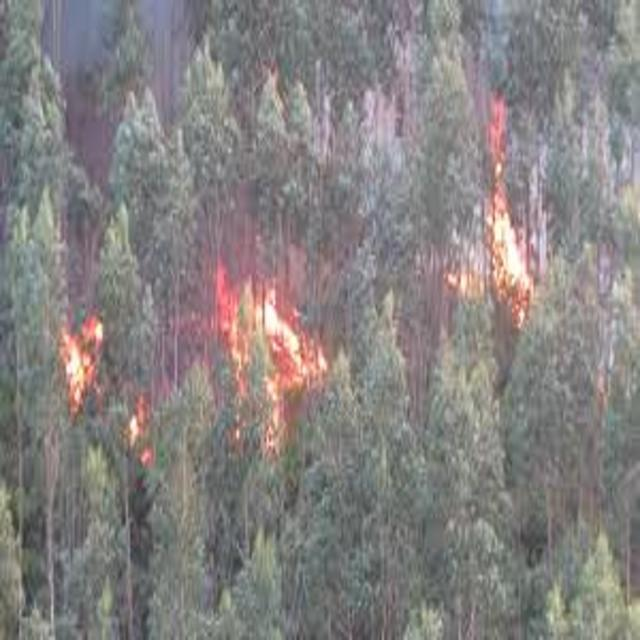Fire: (415, 94, 569, 328), (192, 258, 334, 462), (44, 304, 119, 428), (116, 384, 176, 475)
Smoke: (20, 0, 202, 125)
